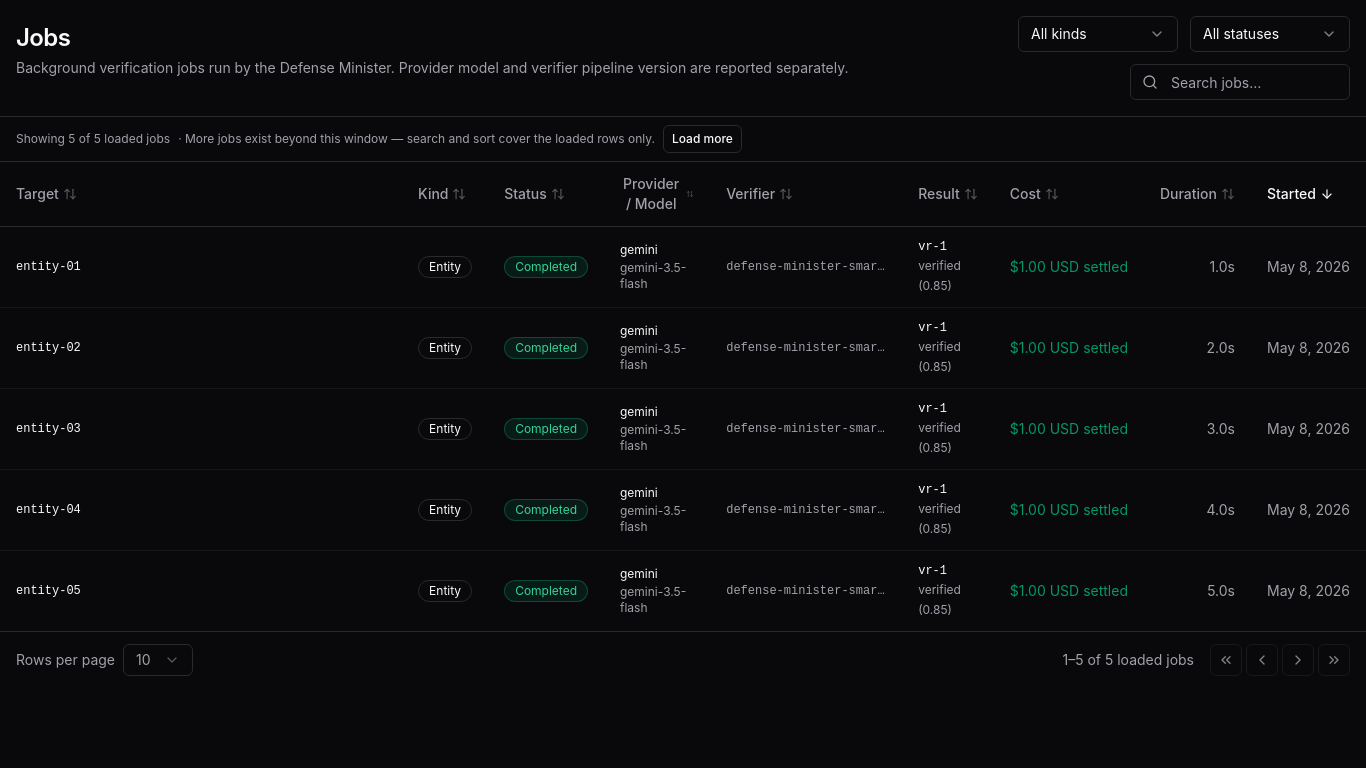
Test: JobsTable — filters › qualifies that count as "loaded" while rows remain beyond the window
The image size is (1366, 768).
In the search field with test id "jobs-search-input": (1240, 82) [1130,64,1350,100], type "entity-01"
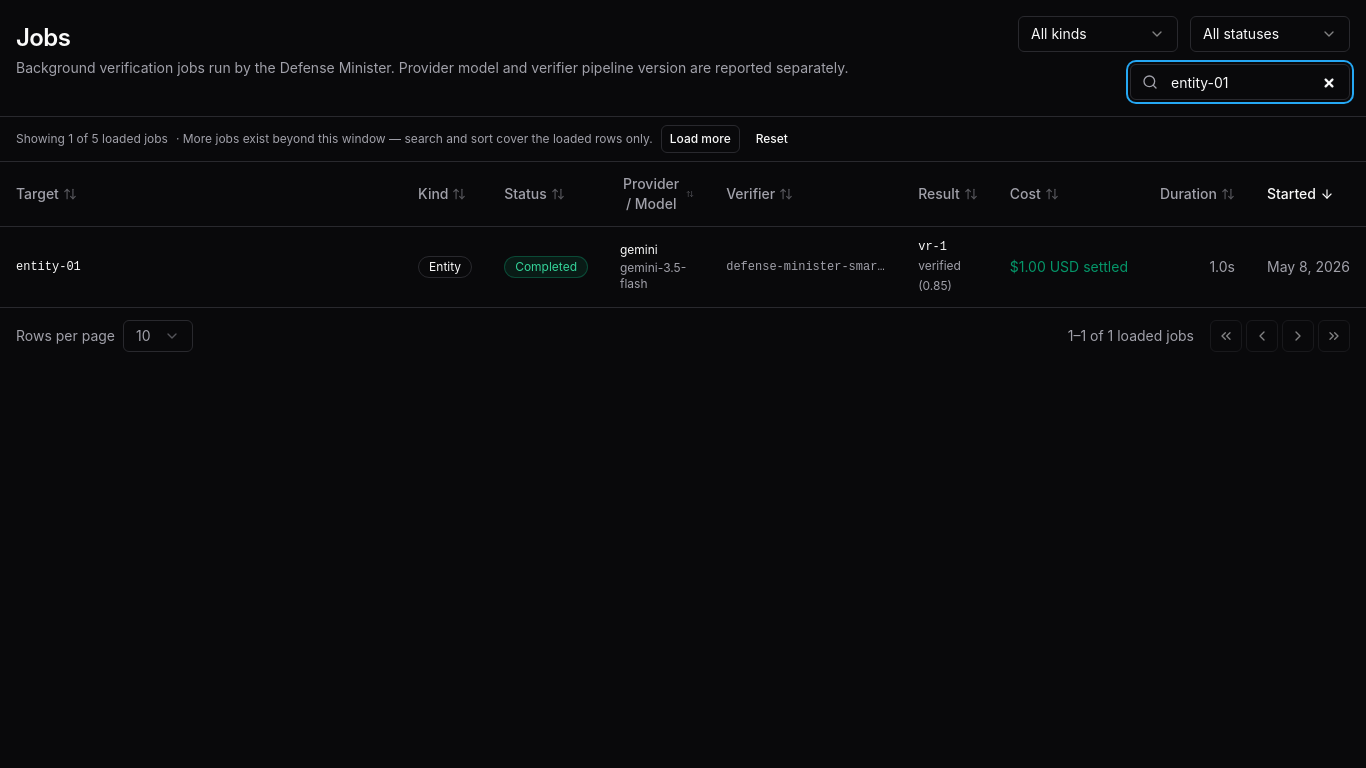
Expected: the text with test id "jobs-filter-summary" reads "Showing 1 of 5 loaded jobs", [16,131,168,147]
